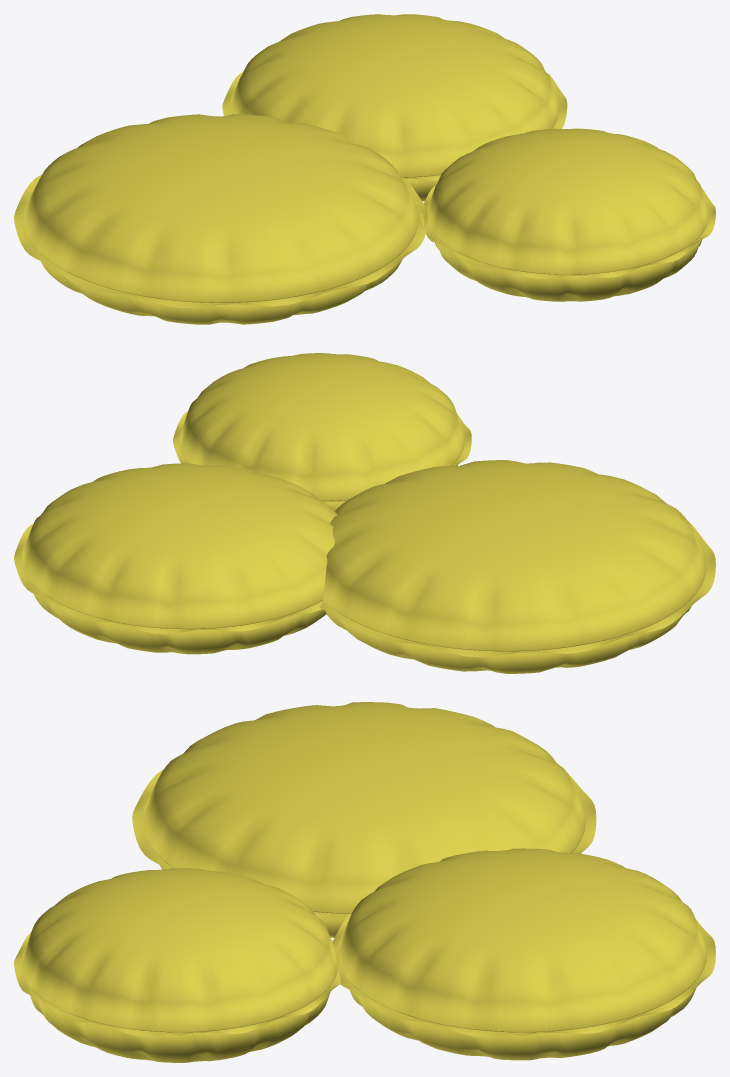
File: bubbles.glb
3 renders of one model, top to bottom at view 1: azimuth 30°, elevation 25°; view 2: azimuth 150°, elevation 25°; view 3: azimuth 270°, elevation 25°, orthographic. The views are drawn at different scales.
Parts seen in each view (by area): view 1: Bubble, Bubble.002, Bubble.001, Bubble weld, Bubble weld.002, Bubble weld.001; view 2: Bubble, Bubble.001, Bubble.002, Bubble weld, Bubble weld.001, Bubble weld.002; view 3: Bubble, Bubble.001, Bubble.002, Bubble weld.001, Bubble weld, Bubble weld.002.
Part boxes in pixels (box(x1,y1,x2,y2)): Bubble: box(23, 114, 418, 324); Bubble.002: box(427, 128, 709, 301); Bubble.001: box(230, 14, 559, 201); Bubble weld: box(14, 174, 427, 307); Bubble weld.002: box(420, 185, 715, 278); Bubble weld.001: box(222, 72, 567, 180); Bubble: box(323, 460, 706, 673); Bubble.001: box(22, 463, 337, 654); Bubble.002: box(179, 353, 464, 510); Bubble weld: box(319, 520, 715, 656); Bubble weld.001: box(14, 524, 323, 634); Bubble weld.002: box(173, 411, 471, 502); Bubble: box(143, 702, 585, 937); Bubble.001: box(338, 848, 706, 1060); Bubble.002: box(21, 868, 337, 1062); Bubble weld.001: box(333, 914, 715, 1036); Bubble weld: box(132, 763, 596, 919); Bubble weld.002: box(14, 931, 340, 1036).
Size of the model in its own units: 1.41 by 0.28 by 1.33.
